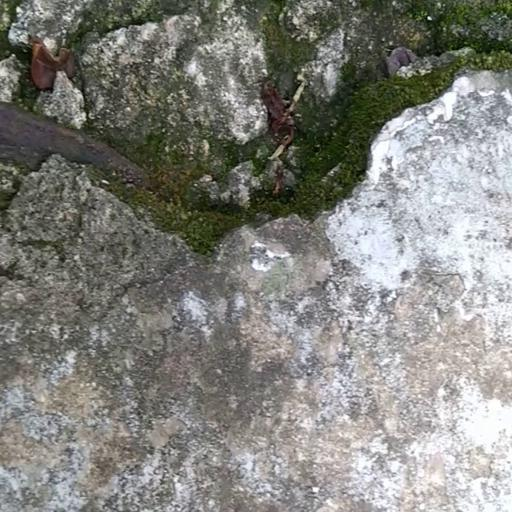spalling: (0, 0, 512, 252)
